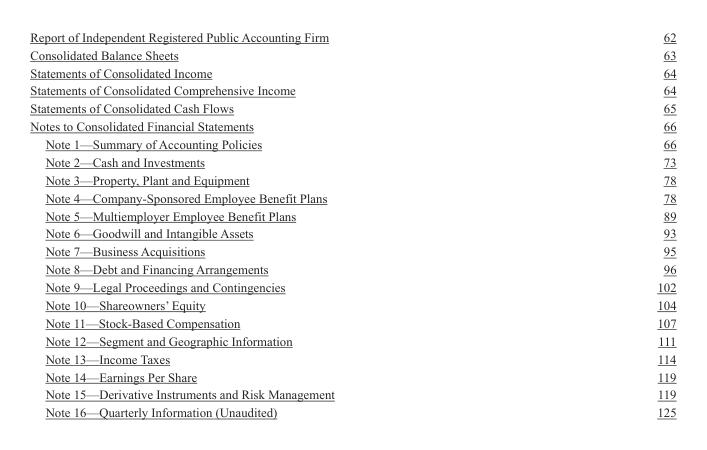table: (29, 29, 675, 419)
table column: (29, 29, 495, 419), (495, 29, 675, 419)
table row: (29, 45, 675, 63), (29, 63, 675, 81), (29, 81, 675, 99), (29, 116, 675, 134), (29, 134, 675, 152), (29, 152, 675, 170), (29, 170, 675, 188), (29, 188, 675, 206), (29, 206, 675, 224), (29, 224, 675, 242), (29, 259, 675, 277), (29, 277, 675, 295), (29, 295, 675, 313), (29, 313, 675, 331), (29, 331, 675, 349), (29, 349, 675, 367), (29, 367, 675, 385), (29, 385, 675, 403), (29, 99, 675, 116), (29, 242, 675, 259), (29, 29, 675, 45), (29, 403, 675, 419)
